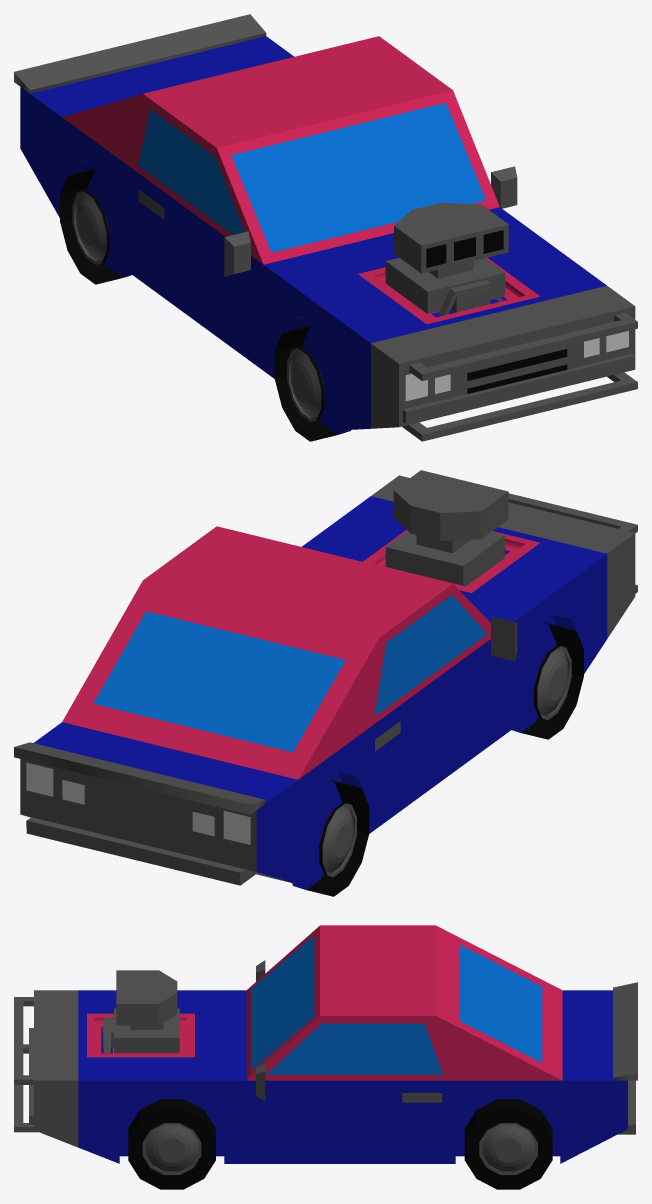
The model's file is Vehicle_03.obj.
The picture shows the model from 3 angles, top to bottom: view 1: azimuth 30°, elevation 25°; view 2: azimuth 150°, elevation 25°; view 3: azimuth 270°, elevation 25°; orthographic projection. The views are drawn at different scales.
Visible parts, largest first — view 1: Veh_03_SR_Veh_DerbyCar_Black; view 2: Veh_03_SR_Veh_DerbyCar_Black; view 3: Veh_03_SR_Veh_DerbyCar_Black.
Boxes of the visible parts, x1=… form: Veh_03_SR_Veh_DerbyCar_Black: x1=14, y1=14, x2=637, y2=441; Veh_03_SR_Veh_DerbyCar_Black: x1=14, y1=470, x2=637, y2=896; Veh_03_SR_Veh_DerbyCar_Black: x1=14, y1=925, x2=637, y2=1189.
Size of the model in its own units: 0.2795 by 0.1997 by 0.6629.
